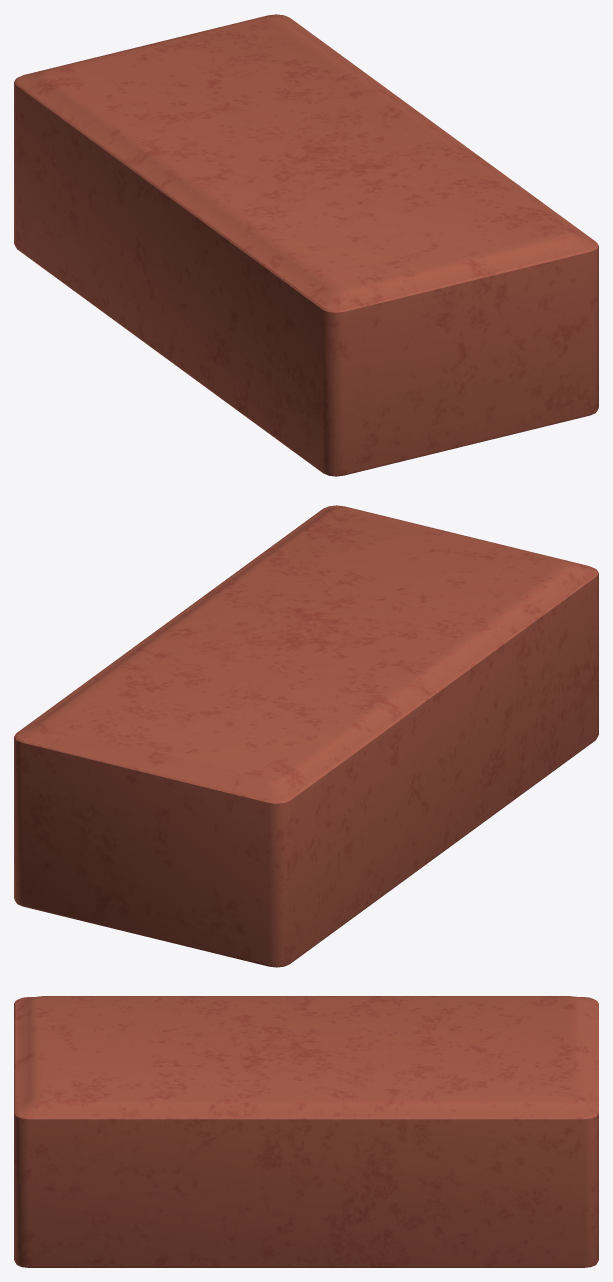
Rendered from col_classic-red.glb.
The picture shows the model from 3 angles, top to bottom: view 1: azimuth 30°, elevation 25°; view 2: azimuth 150°, elevation 25°; view 3: azimuth 270°, elevation 25°; orthographic projection. The views are drawn at different scales.
Parts seen in each view (by area): view 1: Colonial Classic; view 2: Colonial Classic; view 3: Colonial Classic.
Part boxes in pixels (<box>): Colonial Classic: <box>14,14,598,476</box>; Colonial Classic: <box>14,505,598,967</box>; Colonial Classic: <box>14,996,598,1267</box>.
Size of the model in its own units: 0.0984 by 0.0603 by 0.2.
1 material, 1 textured.
